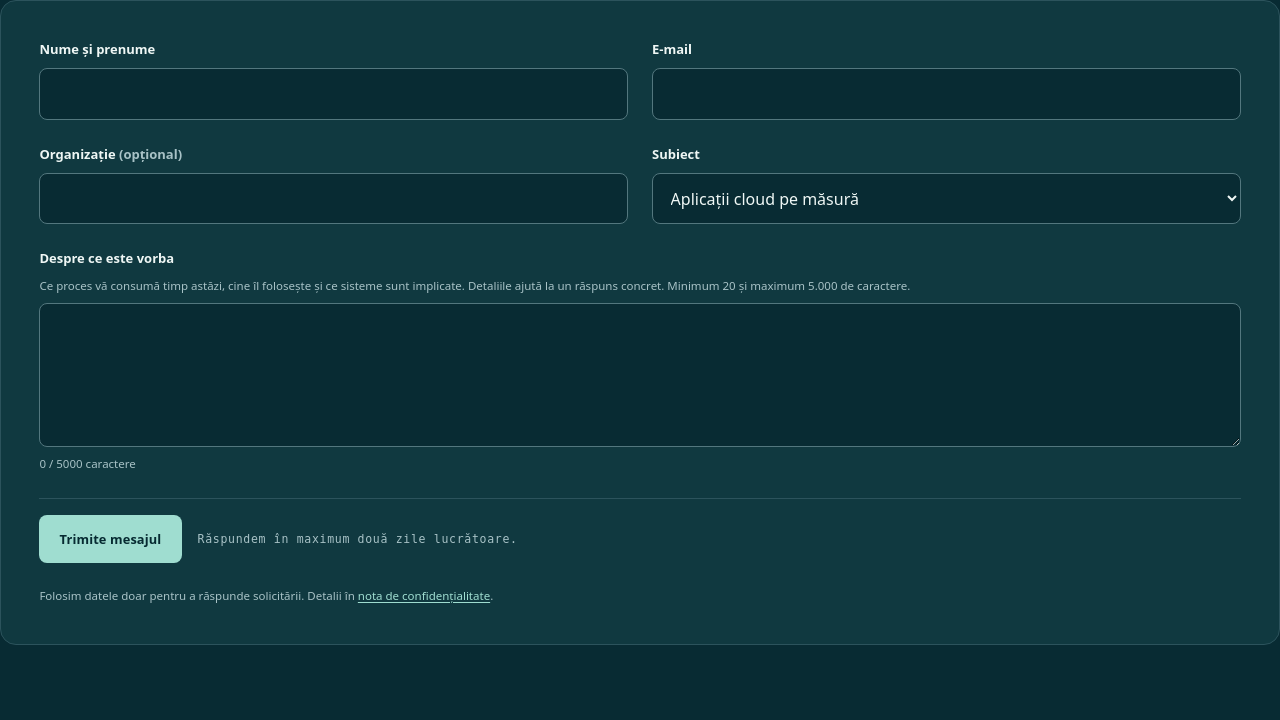
it: <ContactForm /> › nu pretinde succes când serverul respinge cererea
The width and height of the screenshot is (1280, 720).
Type "Ana Popescu" into the field labelled "Nume și prenume" at (334, 94), box [39,68,628,120]
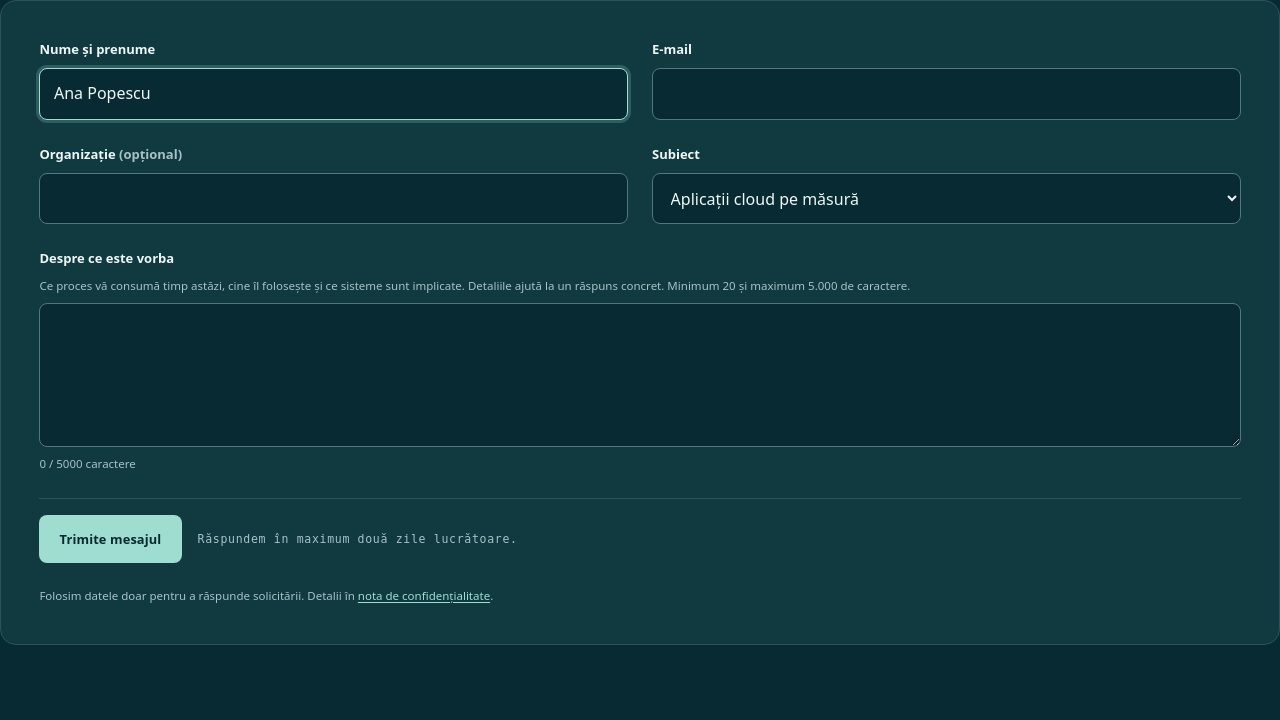
Type "ana@exemplu.ro" into the field labelled "E-mail" at (946, 94), box [652,68,1241,120]
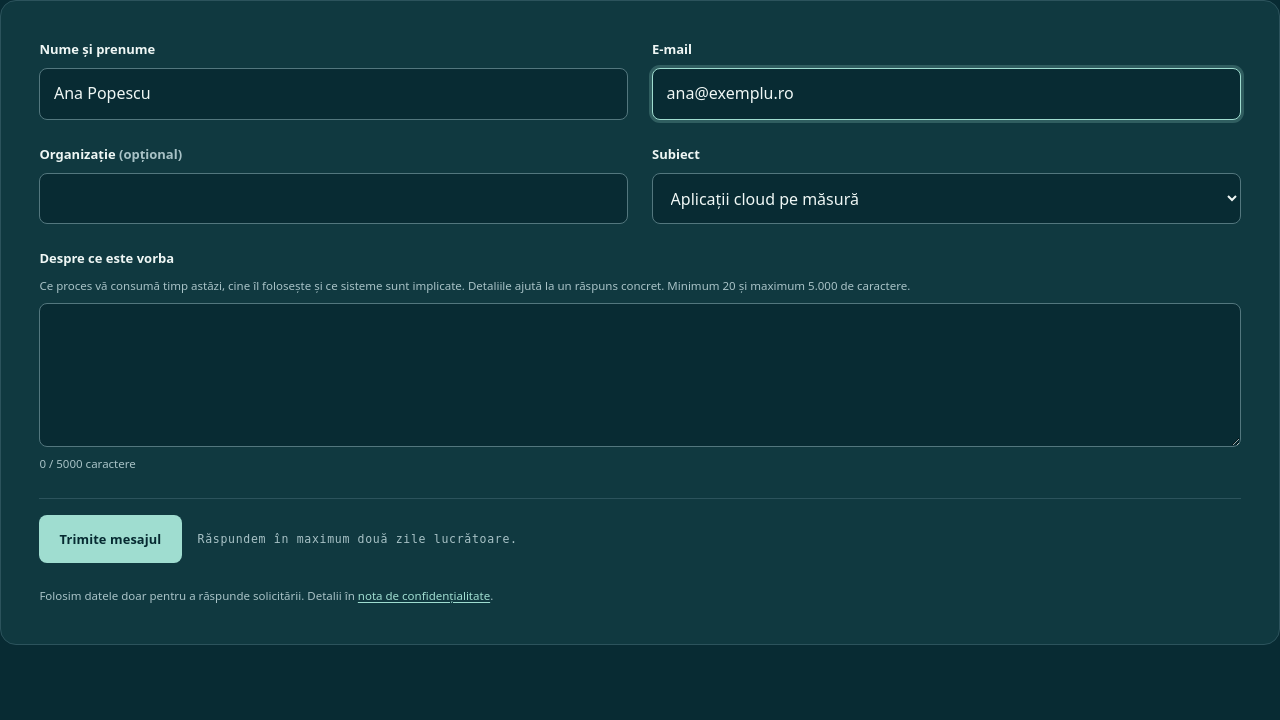
Type "Introducem manual facturile primite pe e-mail în programul de contabilitate." into the text box labelled "Despre ce este vorba" at (640, 375), box [39,303,1241,447]
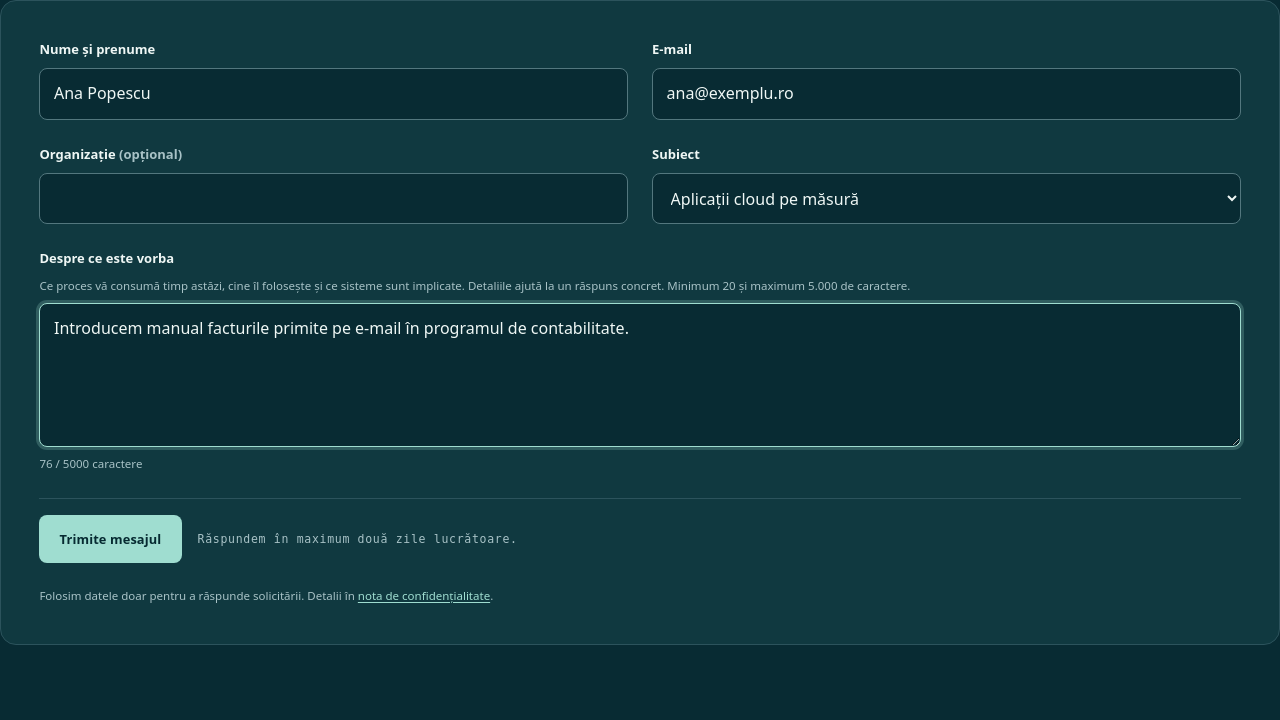
Click the button "Trimite mesajul" at (110, 539), box [39,515,182,563]
(page scrolled)
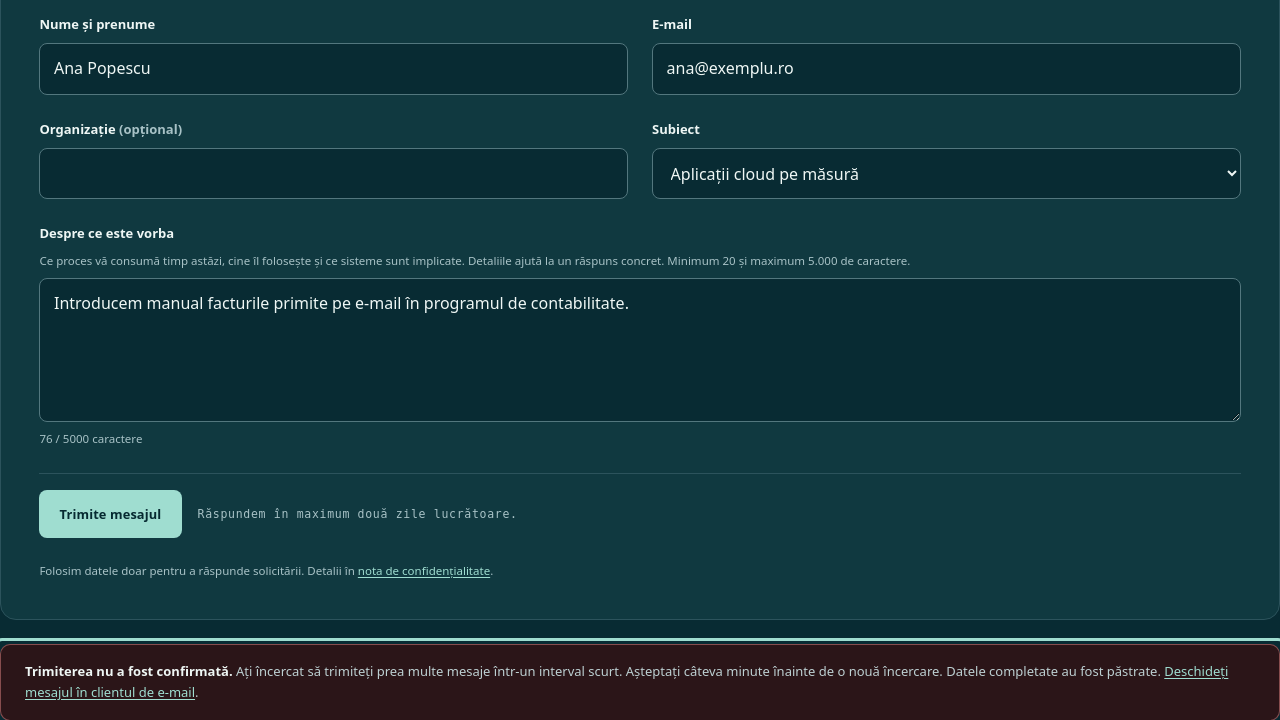
Expected: the message does not show "mesaj trimis", [0,644,1279,719]
Expected: the message shows "prea multe mesaje", [236,662,943,680]
